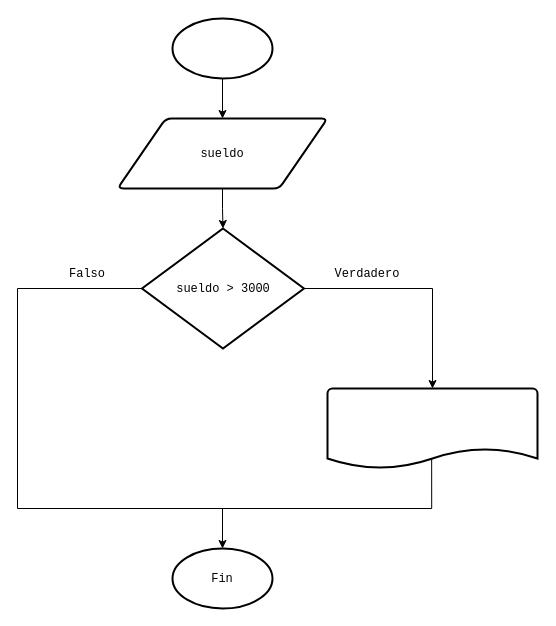
Image size: 556x626. Some labels were removed from this diagram. Each missing label, with the centre of its shape:
"Debe abonar impuestos": (432,428)
Inicio: (222,48)
